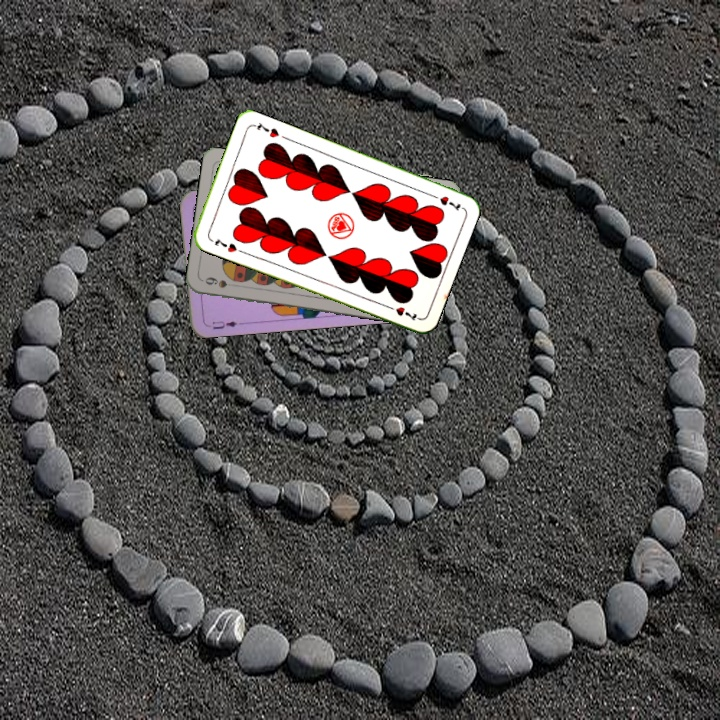EU: (208, 317, 244, 332)
H7: (426, 190, 463, 214), (211, 234, 239, 255)
S9: (201, 273, 241, 290)
